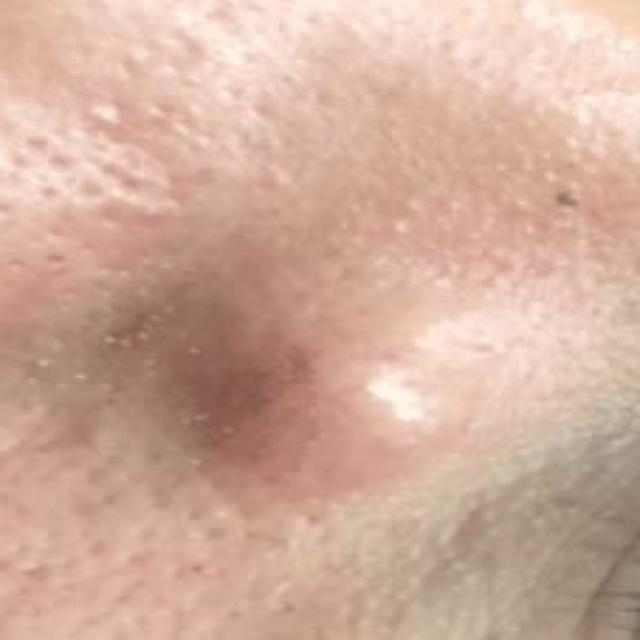nodule: (183, 271, 546, 534)
